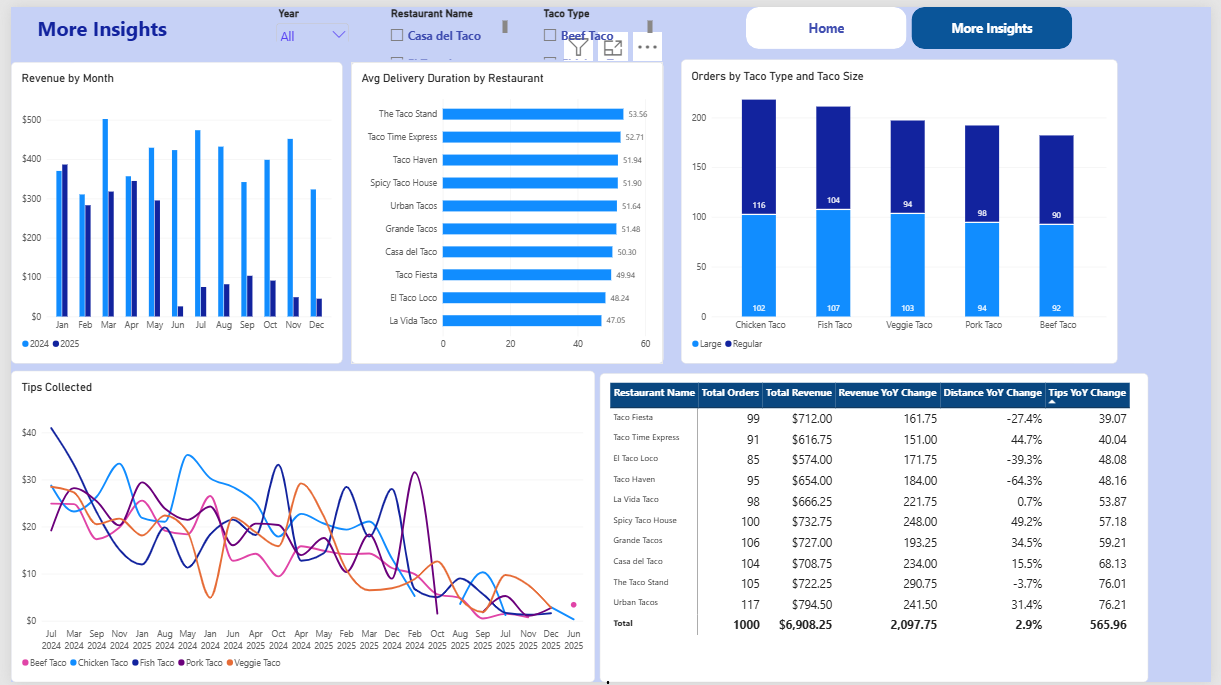

Layout of this report page (visuals, bound fields, positions):
{"tool":"powerbi","page":{"name":"More Insights","canvas":[1920,1080],"ordinal":1},"visuals":[{"type":"clusteredColumnChart","title":"Revenue by Month ","fields":{"Category":["DateTable.Month"],"Series":["DateTable.Year"],"Y":["_Measure.Total Revenue"]},"box":[0,88,530,482],"z":0},{"type":"textbox","box":[0,12.5,332.1,55.4],"z":1000},{"type":"lineChart","title":" Tips Collected","fields":{"Category":["DateTable.Month Year"],"Series":["DimTaco.Taco Type"],"Y":["_Measure.Total Tips Collected"]},"box":[0,582,934,498],"z":2000},{"type":"clusteredBarChart","title":"Avg Delivery Duration by Restaurant ","fields":{"Category":["DimRestaurant.Restaurant Name"],"Y":["_Measure.Avg Delivery Duration"]},"box":[544,88,500,482],"z":3000},{"type":"columnChart","title":"Orders by Taco Type and Taco Size","fields":{"Category":["DimTaco.Taco Type"],"Series":["DimTaco.Taco Size"],"Y":["_Measure.Total Orders"]},"box":[1072,84,698,486],"z":4000},{"type":"pivotTable","fields":{"Rows":["DimRestaurant.Restaurant Name"],"Values":["_Measure.Total Orders","_Measure.Total Revenue","_Measure.Revenue YoY Change","_Measure.Distance YoY Change","_Measure.Tips YoY Change"]},"box":[941,586.3,877.7,494],"z":5000},{"type":"slicer","fields":{"Values":["DimRestaurant.Restaurant Name"]},"box":[600,0,194.6,83.9],"z":6000},{"type":"slicer","fields":{"Values":["DimTaco.Taco Type"]},"box":[844.6,0,182.1,83.9],"z":7000},{"type":"slicer","fields":{"Values":["DateTable.Year"]},"box":[419.6,0,125,55.4],"z":8000},{"type":"pageNavigator","box":[1175,0,523.2,67.9],"z":9000}]}

Visuals, with their boxes in screenshot pixels (x1, y1, x2, y2), scaled from the page's 1920x1080 canvas onto the 1221x685 screenshot:
"Revenue by Month " clusteredColumnChart: crop(0, 56, 337, 362)
textbox: crop(0, 8, 211, 43)
" Tips Collected" lineChart: crop(0, 369, 594, 684)
"Avg Delivery Duration by Restaurant " clusteredBarChart: crop(346, 56, 664, 362)
"Orders by Taco Type and Taco Size" columnChart: crop(682, 53, 1126, 362)
pivotTable - DimRestaurant.Restaurant Name x _Measure.Total Orders: crop(598, 372, 1157, 684)
slicer - DimRestaurant.Restaurant Name: crop(382, 0, 505, 53)
slicer - DimTaco.Taco Type: crop(537, 0, 653, 53)
slicer - DateTable.Year: crop(267, 0, 346, 35)
pageNavigator: crop(747, 0, 1080, 43)
